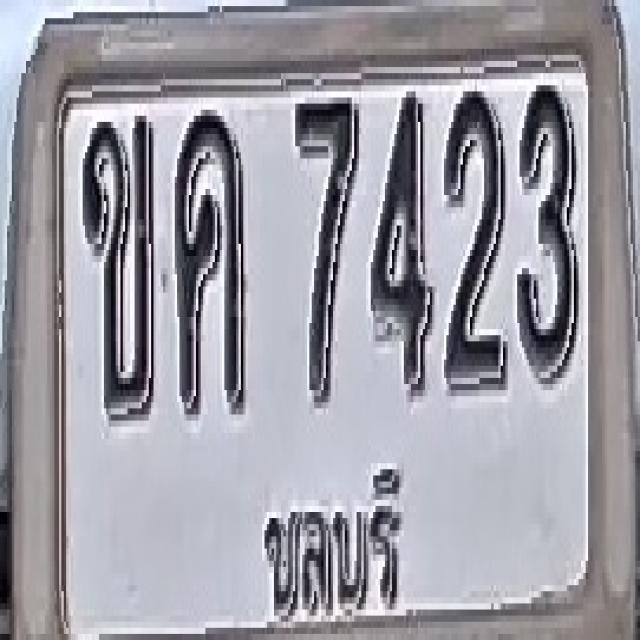-: (83, 112, 156, 418), (174, 110, 246, 414)
2: (444, 85, 508, 390)
3: (516, 79, 577, 378)
4: (371, 89, 432, 394)
7: (294, 94, 358, 406)
CBI: (245, 433, 414, 640)
